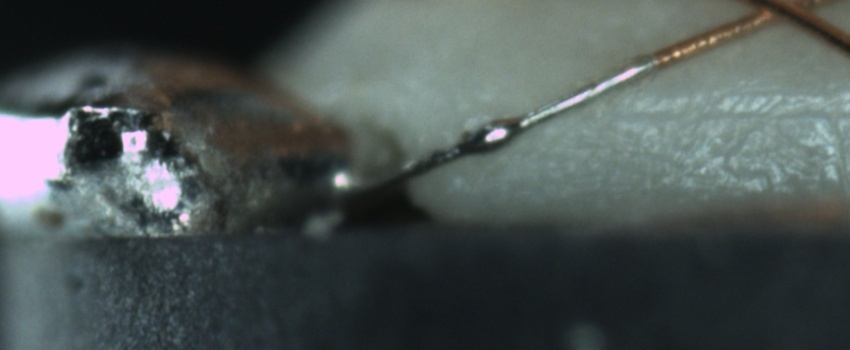CL: (736, 1, 823, 30)
DL: (634, 78, 849, 143)
TB: (465, 116, 520, 152)
TS: (346, 55, 656, 197)
TTCW: (322, 33, 699, 203)
